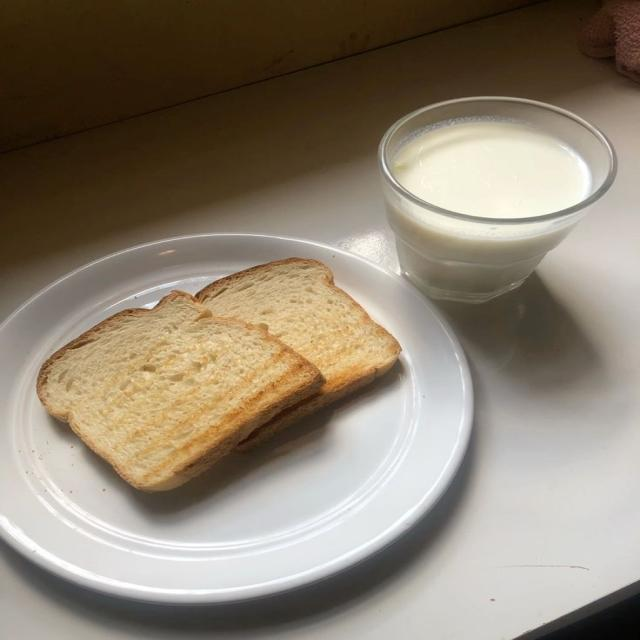toast bread: (37, 290, 323, 491), (196, 258, 401, 450)
